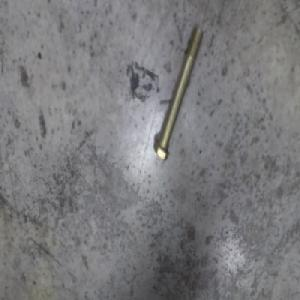Bolt: (153, 28, 203, 160)
